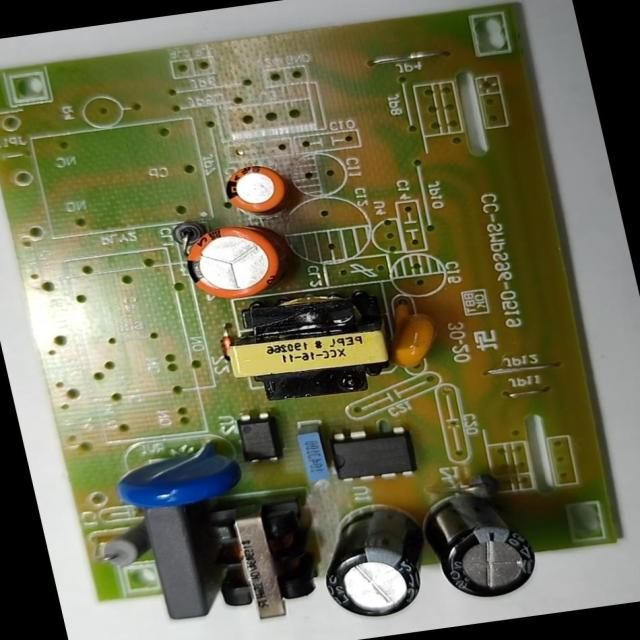Cap1: (174, 214, 292, 305)
Cap2: (217, 161, 296, 219)
Cap3: (303, 494, 445, 630)
Cap4: (415, 484, 546, 608)
MOSFET: (324, 422, 420, 488)
Mov: (103, 434, 250, 517)
Resistor: (90, 520, 156, 578)
Transformer: (217, 285, 408, 411), (192, 489, 328, 627)
